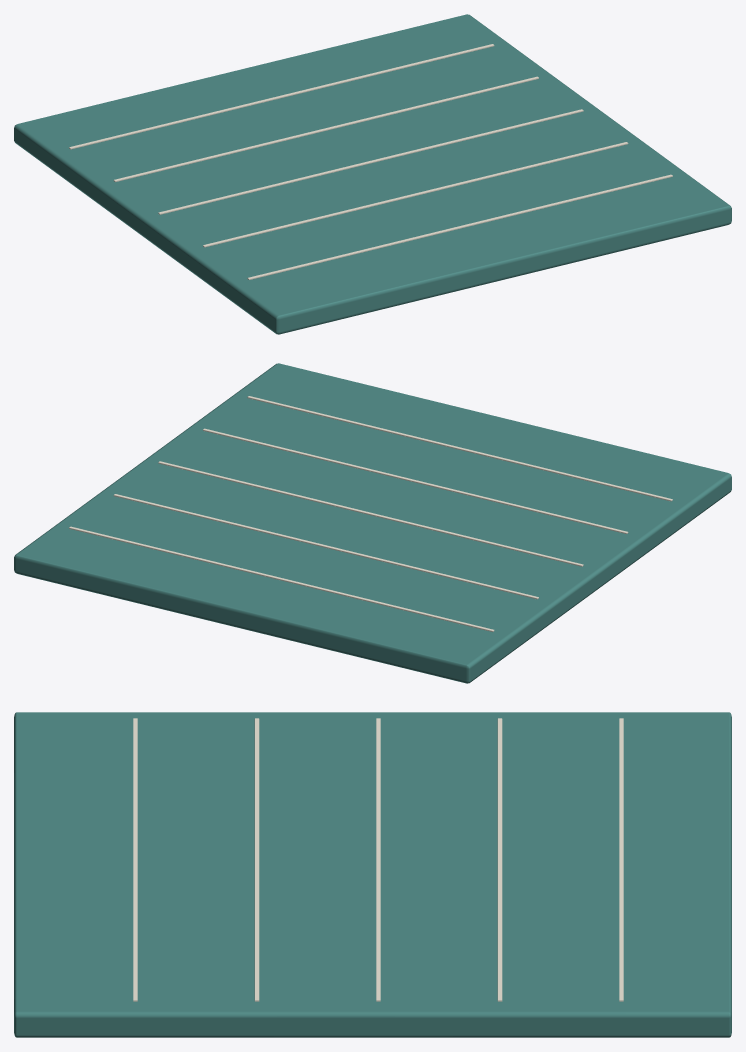
Rendered from wp-tapis-de-meditation.glb.
3 views of the same model, one above another, from view 1: azimuth 30°, elevation 25°; view 2: azimuth 150°, elevation 25°; view 3: azimuth 270°, elevation 25° (orthographic). The views are drawn at different scales.
Parts seen in each view (by area): view 1: wp-tapis-de-meditation; view 2: wp-tapis-de-meditation; view 3: wp-tapis-de-meditation.
Boxes of the visible parts, <box> form: wp-tapis-de-meditation: <box>14,14,731,334</box>; wp-tapis-de-meditation: <box>14,363,731,683</box>; wp-tapis-de-meditation: <box>14,712,731,1037</box>.
Bounding box in the file's own units: 0.9 × 0.04 × 0.9.
